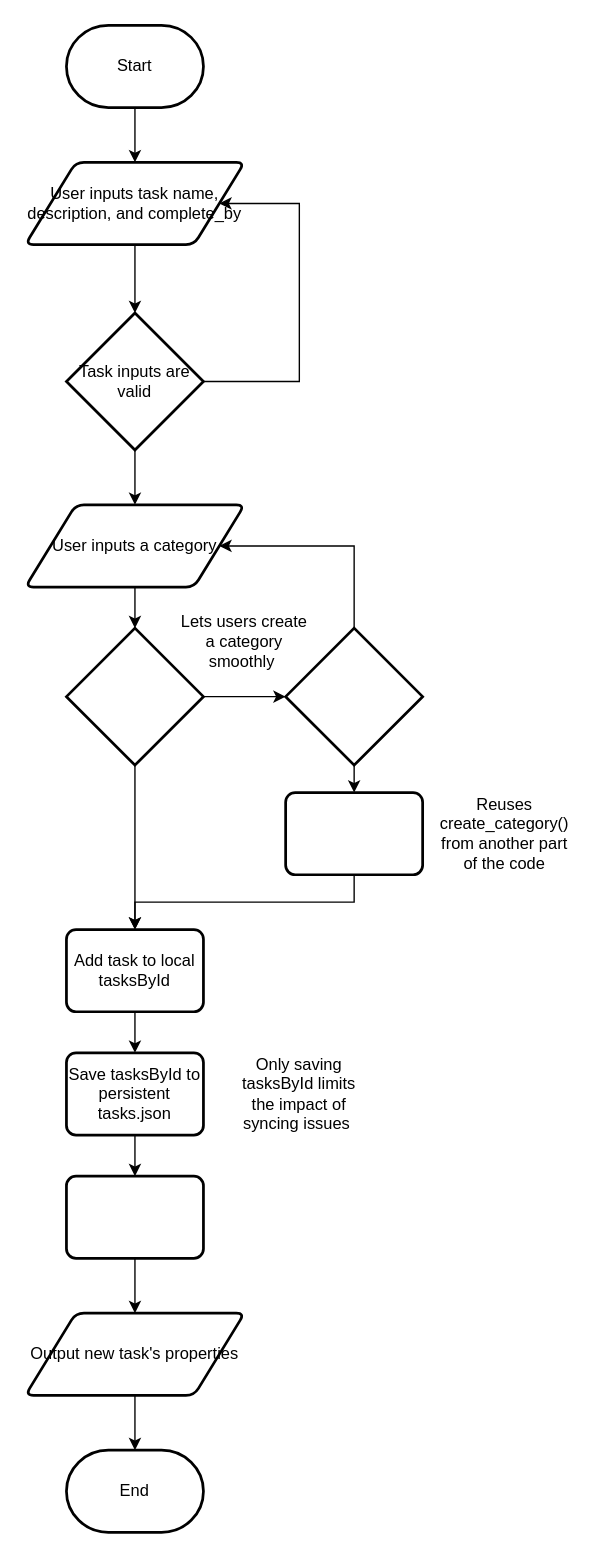
Some shapes in this 596 by 1556 pixel diagram are drawn without their labels. Here are the shapes that lost their labels. From the top down, the box of each, then its label:
(64, 626, 204, 766): Does the category already exist?
(284, 626, 423, 766): Does the user wish to create the category?
(284, 790, 423, 875): Create category with the given name
(64, 1174, 204, 1259): Add task to local tasksByCategory
